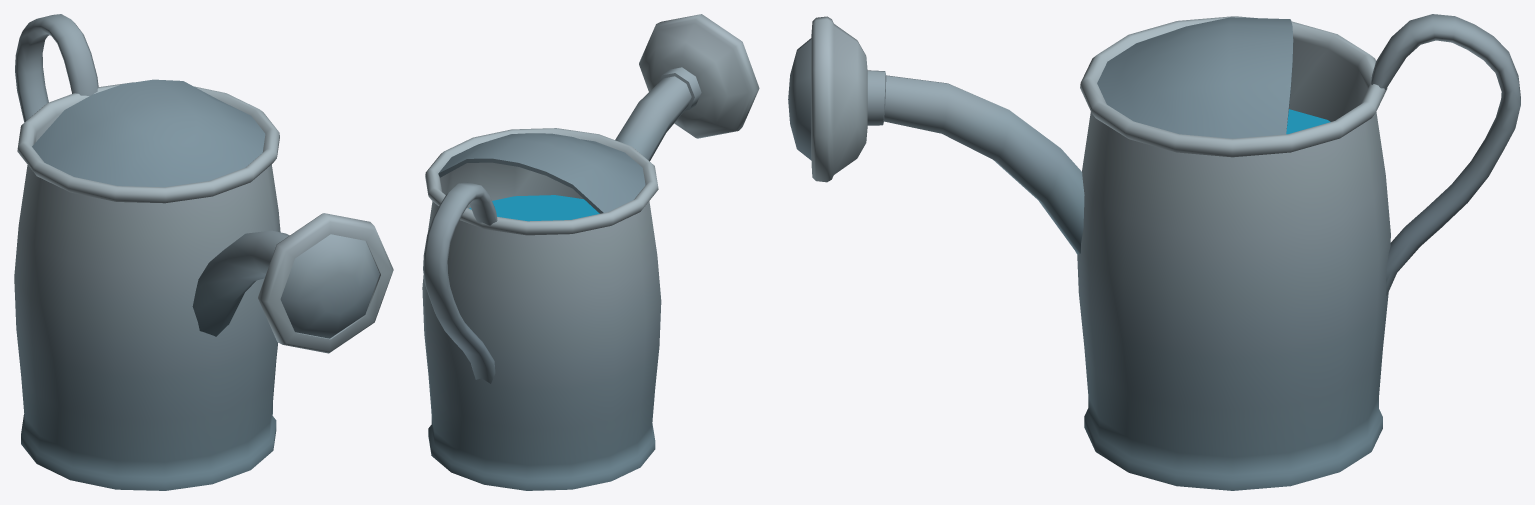
File: Watering_can.fbx
3 views of the same model, side by side, from view 1: azimuth 30°, elevation 25°; view 2: azimuth 150°, elevation 25°; view 3: azimuth 270°, elevation 25° (orthographic). The views are drawn at different scales.
Visible parts, largest first — view 1: Watering_can; view 2: Watering_can; view 3: Watering_can.
Boxes of the visible parts, x1,y1,x2,y2 form: Watering_can: (14,14,393,490); Watering_can: (422,14,759,490); Watering_can: (788,14,1520,490).
Size of the model in its own units: 42.86 by 61.96 by 99.83.
